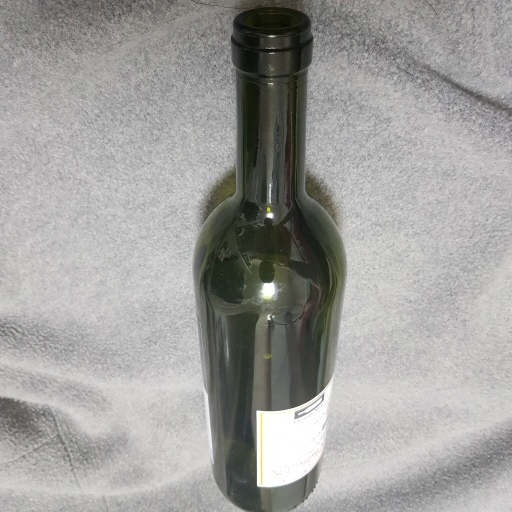Glass_2: (192, 10, 352, 512)
